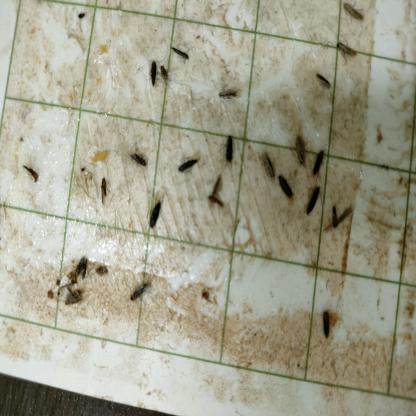prays_oleae: (301, 182, 323, 218), (174, 151, 201, 177), (146, 199, 166, 234), (63, 282, 85, 313), (336, 36, 358, 66), (342, 1, 364, 29), (260, 148, 278, 182), (294, 128, 308, 170), (319, 308, 335, 344), (277, 174, 294, 204), (169, 42, 189, 67), (217, 85, 240, 106), (126, 282, 150, 302), (315, 71, 332, 98), (222, 133, 236, 165), (207, 194, 227, 216), (129, 145, 148, 168), (312, 146, 326, 177), (142, 57, 157, 85), (97, 178, 109, 208), (72, 254, 88, 275), (209, 176, 224, 197), (329, 201, 339, 229), (94, 261, 108, 278), (159, 63, 170, 79)
